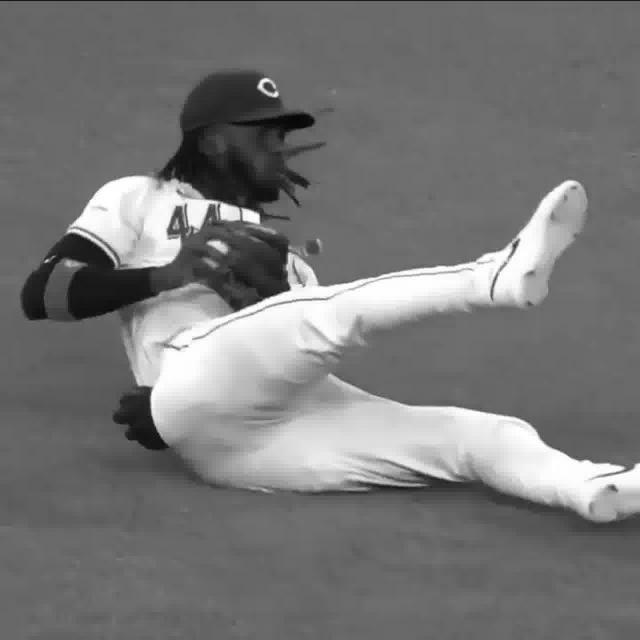baseball: (199, 240, 227, 268)
baseball_glove: (192, 216, 295, 295)
shoe: (503, 175, 591, 314), (576, 463, 640, 525)
